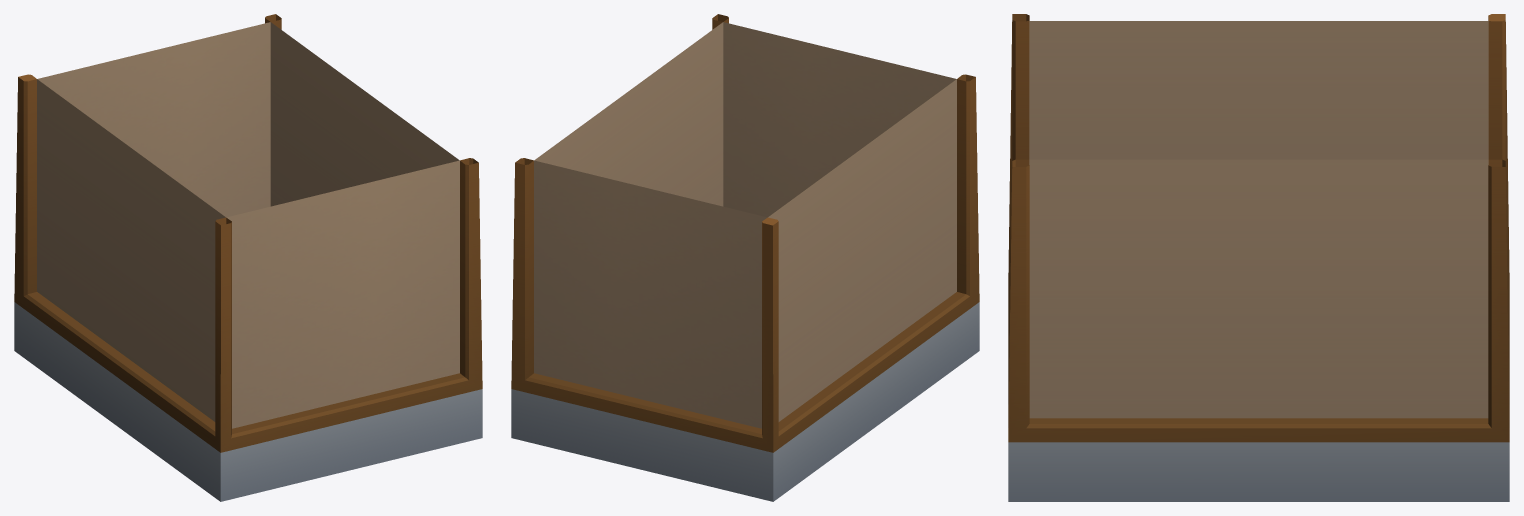
The model's file is House_GroundFloor.fbx.
The picture shows the model from 3 angles, left to right: view 1: azimuth 30°, elevation 25°; view 2: azimuth 150°, elevation 25°; view 3: azimuth 270°, elevation 25°; orthographic projection. The views are drawn at different scales.
Parts seen in each view (by area): view 1: pCube65; view 2: pCube65; view 3: pCube65.
Boxes of the visible parts, <box> form: pCube65: <box>14,14,482,501</box>; pCube65: <box>511,14,979,501</box>; pCube65: <box>1008,14,1509,501</box>.
Bounding box in the file's own units: 5.3 × 5.31 × 7.23.
Materials: 1 (1 with a texture image).
